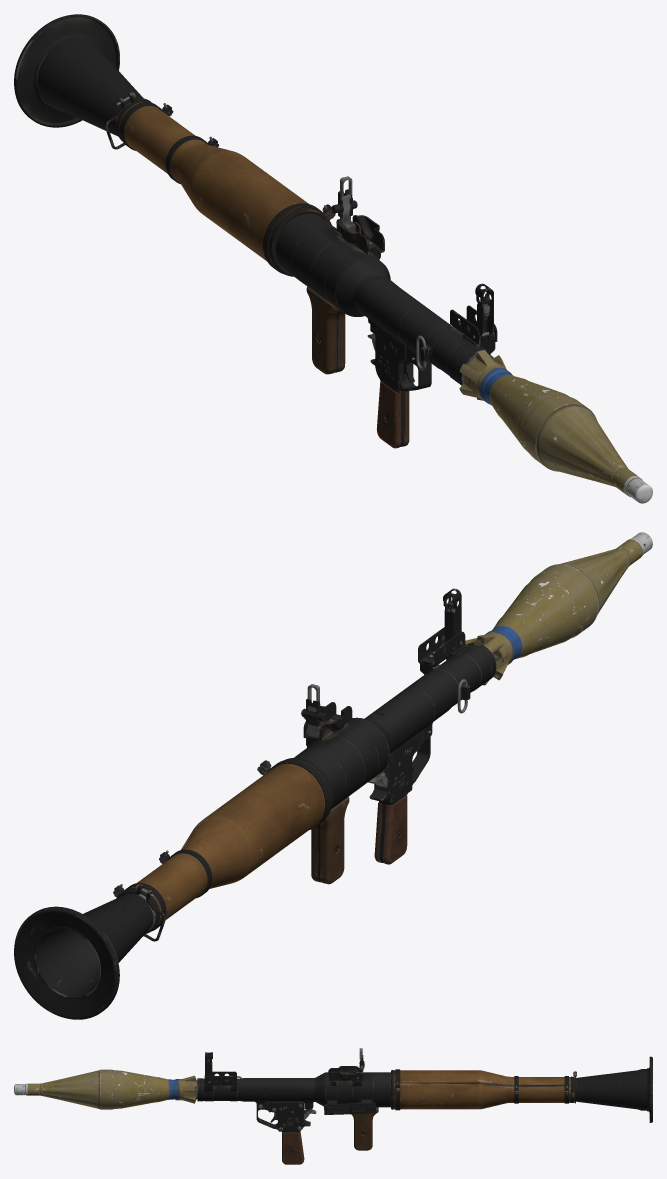
The model's file is mimita-rpg-v1.glb.
3 renders of one model, top to bottom at view 1: azimuth 30°, elevation 25°; view 2: azimuth 150°, elevation 25°; view 3: azimuth 270°, elevation 25°, orthographic. The views are drawn at different scales.
Parts seen in each view (by area): view 1: Object_23; view 2: Object_23; view 3: Object_23.
Part boxes in pixels (left/top/right/bottom): Object_23: left=14, top=14, right=652, bottom=503; Object_23: left=14, top=532, right=652, bottom=1019; Object_23: left=14, top=1048, right=652, bottom=1164.
Bounding box in the file's own units: 0.2105 × 0.4151 × 2.03.
Materials: 3 (3 with a texture image).
